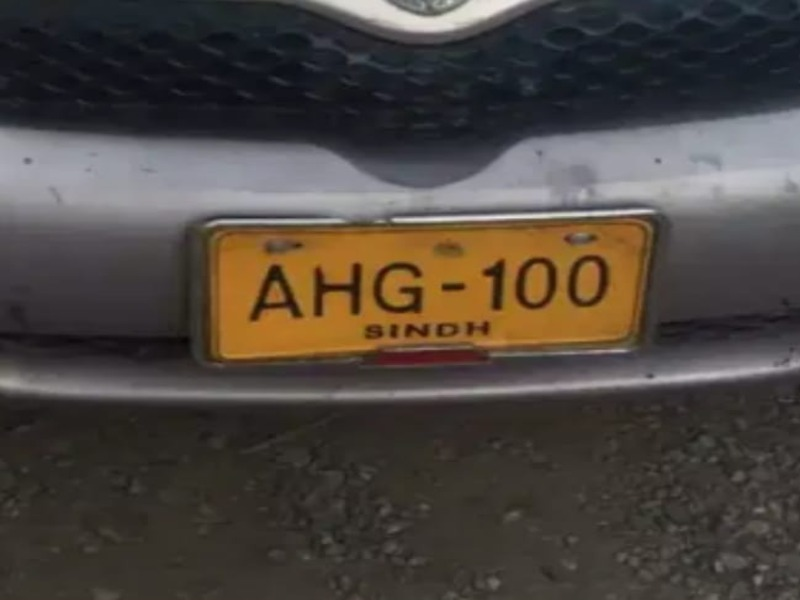License Plate: (192, 208, 662, 371)
